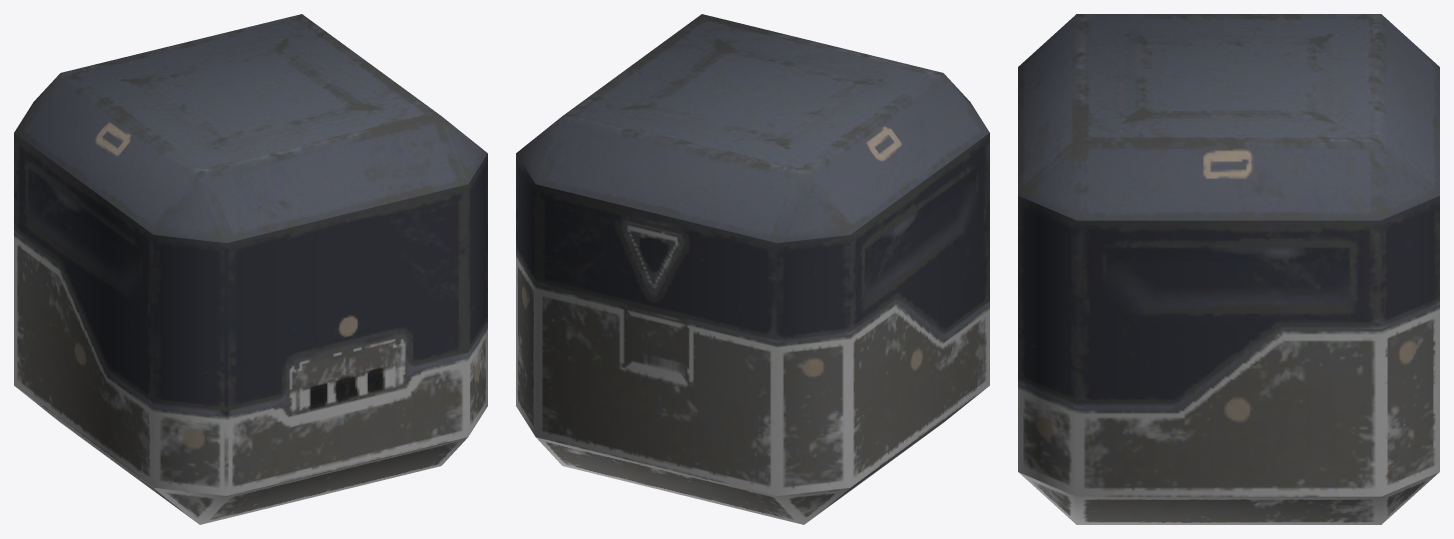
File: SM_crate_cover_a.fbx
3 renders of one model, left to right at view 1: azimuth 30°, elevation 25°; view 2: azimuth 150°, elevation 25°; view 3: azimuth 270°, elevation 25°, orthographic. The views are drawn at different scales.
Visible parts, largest first — view 1: crates_lp_Mesh; view 2: crates_lp_Mesh; view 3: crates_lp_Mesh.
Boxes of the visible parts, box(x1,y1,x2,y2) form: crates_lp_Mesh: box(14, 14, 487, 524); crates_lp_Mesh: box(516, 14, 989, 524); crates_lp_Mesh: box(1018, 14, 1439, 524).
Bounding box in the file's own units: 1 × 1 × 1.
